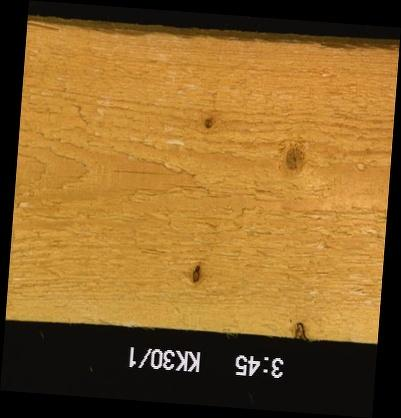dry_knot: (191, 263, 201, 284)
edge_knot: (291, 322, 308, 339)
small_knot: (202, 116, 216, 130)
sound_knot: (280, 138, 309, 176)
wave: (26, 26, 398, 54)
